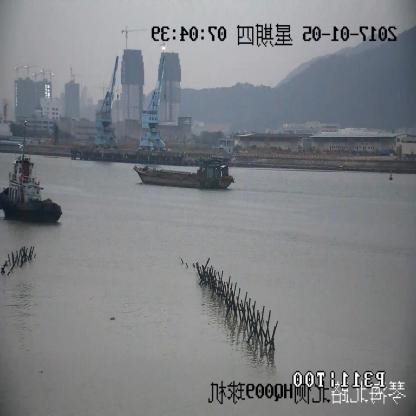Bulk Carrier: (134, 159, 234, 189)
